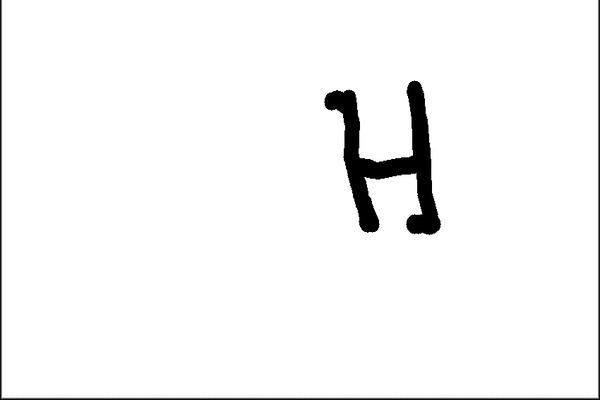H: (318, 79, 449, 239)
